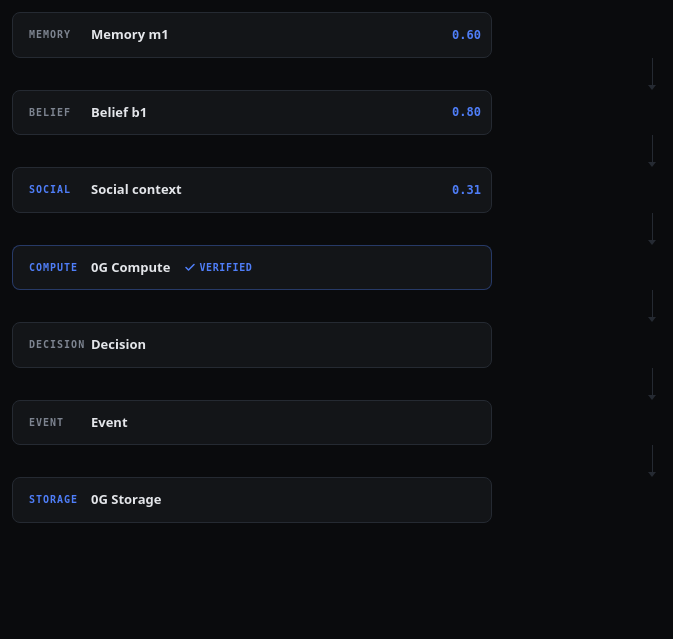
Test case: CausalChain › renders the social node body on click
Click the text "Social context" at (136, 190), box [91,180,182,200]
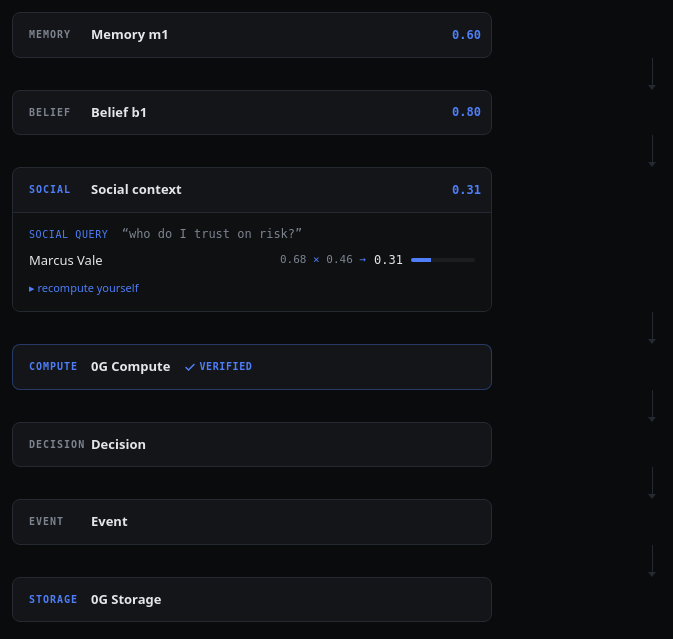
expect the text "Marcus Vale" is shown: met, box [29,250,103,268]
